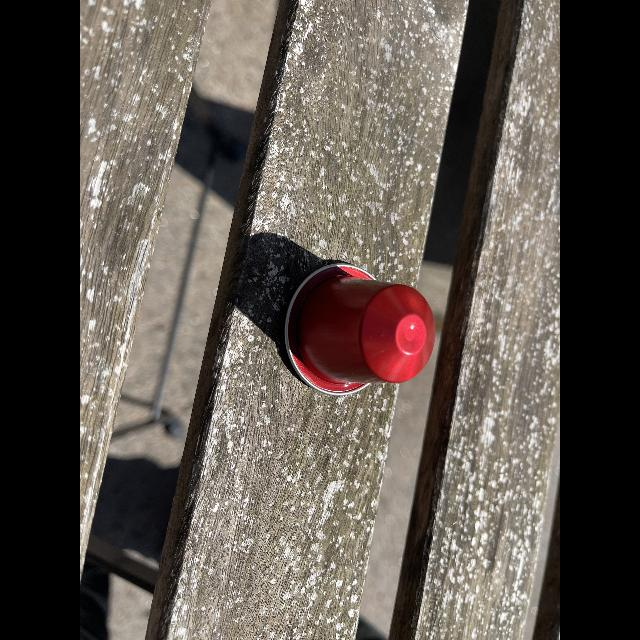intact_capsule: (278, 249, 440, 417)
